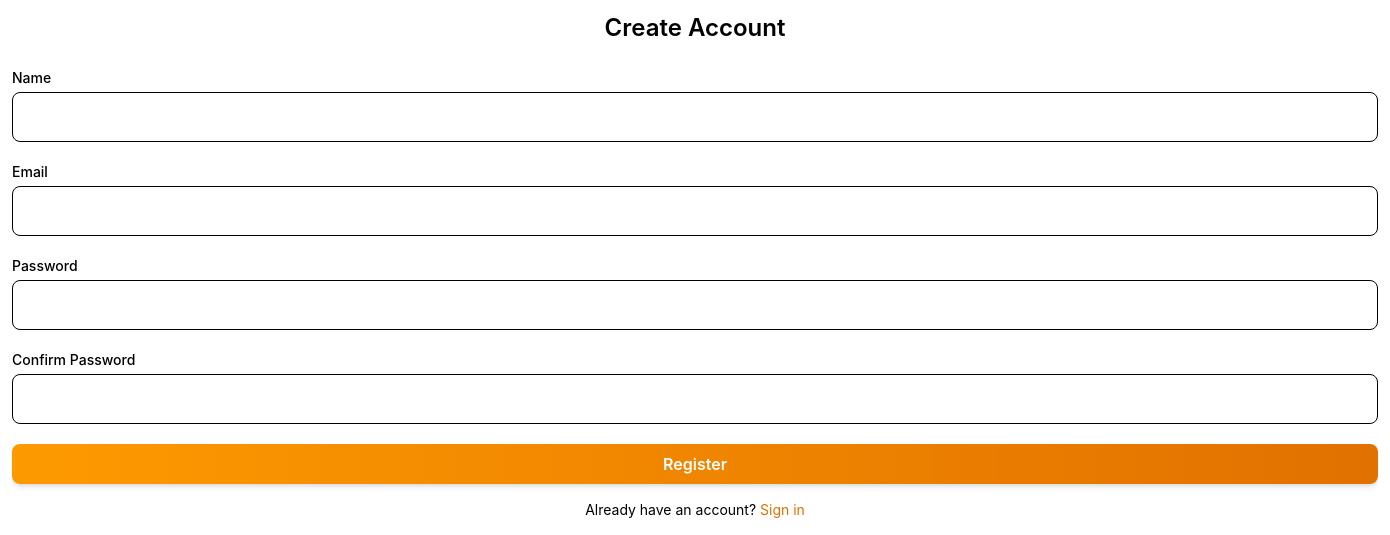
Register › Registration flow › button shows loading state during registration
This screenshot has width=1390, height=535.
Type "Test User" into the field labelled "Name" at (695, 117), box top-left (12, 92), bottom-right (1378, 142)
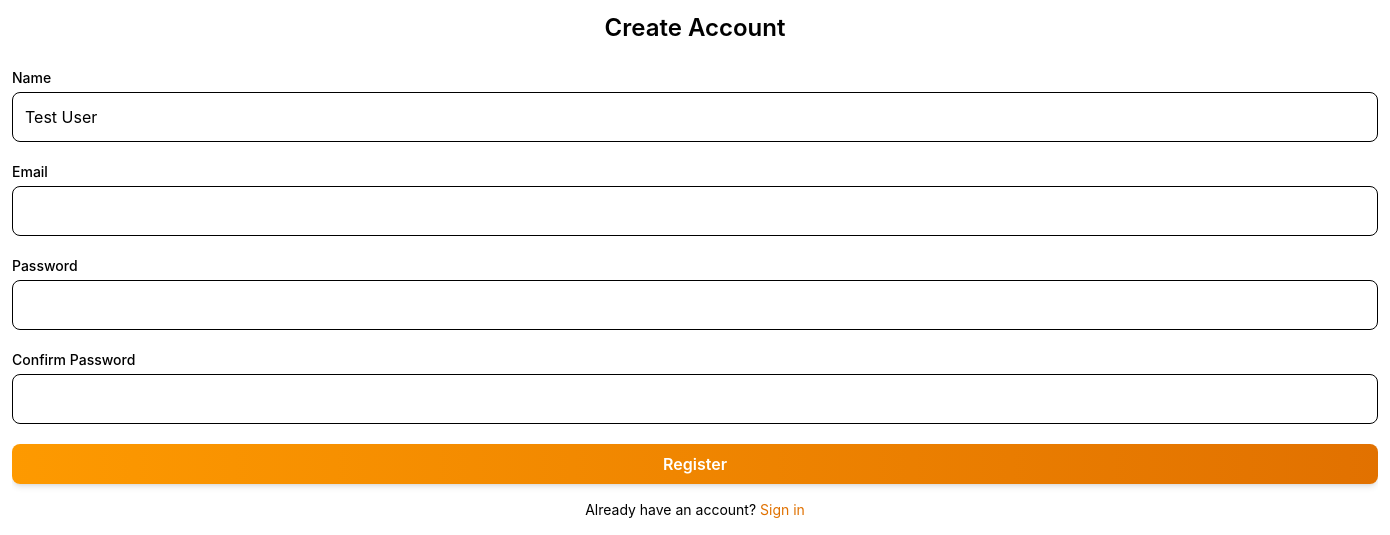
Type "test@example.com" into the field labelled "Email" at (695, 211), box top-left (12, 186), bottom-right (1378, 236)
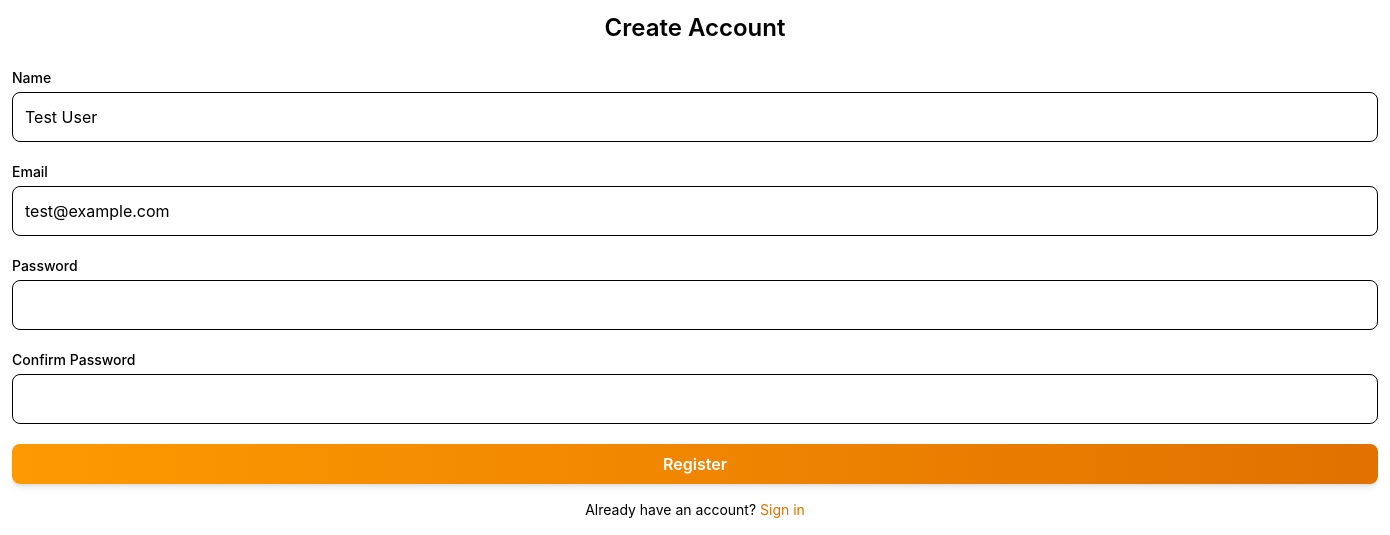
Type "password123" into the password field labelled "Password" at (695, 305), box top-left (12, 280), bottom-right (1378, 330)
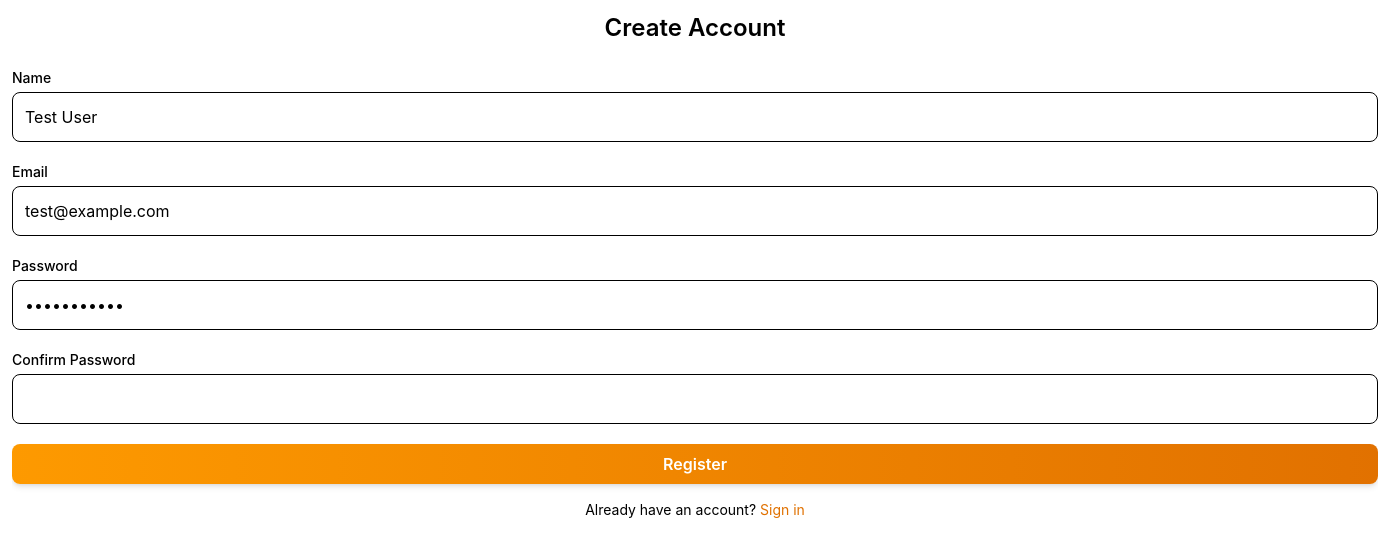
Type "password123" into the password field labelled "Confirm Password" at (695, 399), box top-left (12, 374), bottom-right (1378, 424)
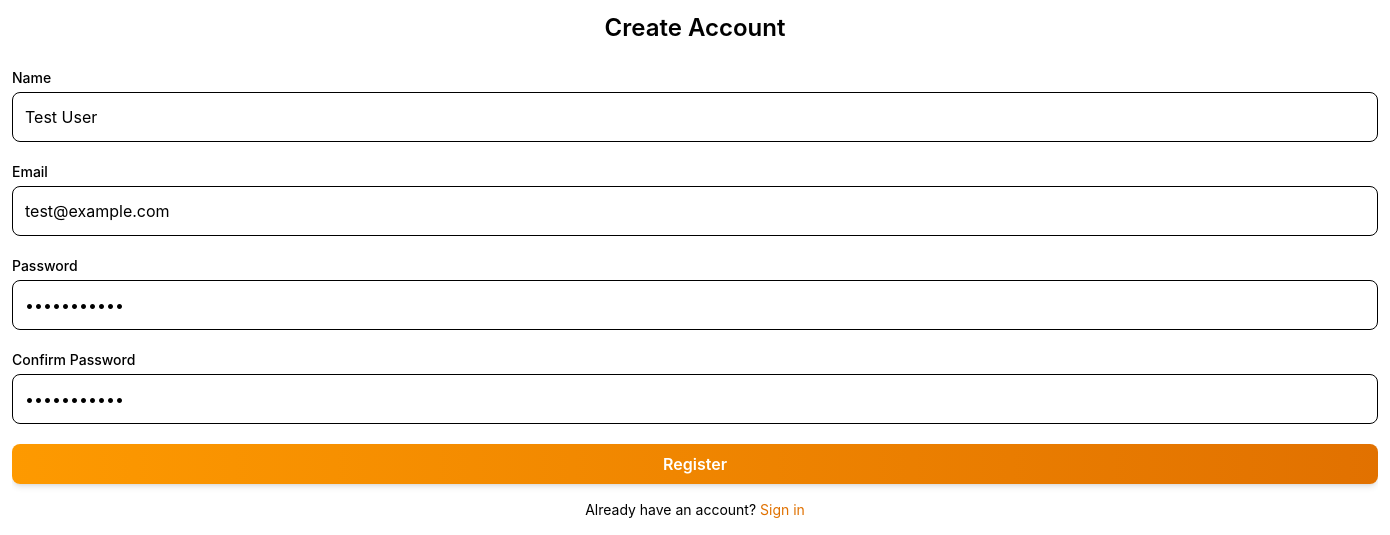
Click the button "Register" at (695, 464), box top-left (12, 444), bottom-right (1378, 484)
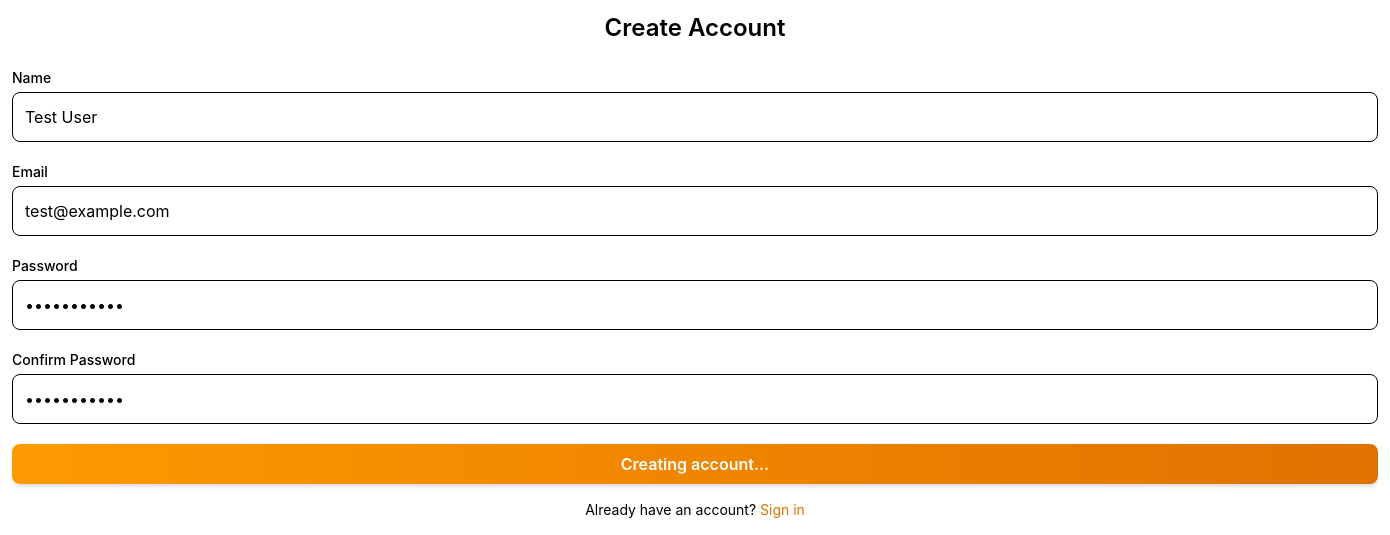
Now the button "Creating account..." is disabled, box top-left (12, 444), bottom-right (1378, 484)
